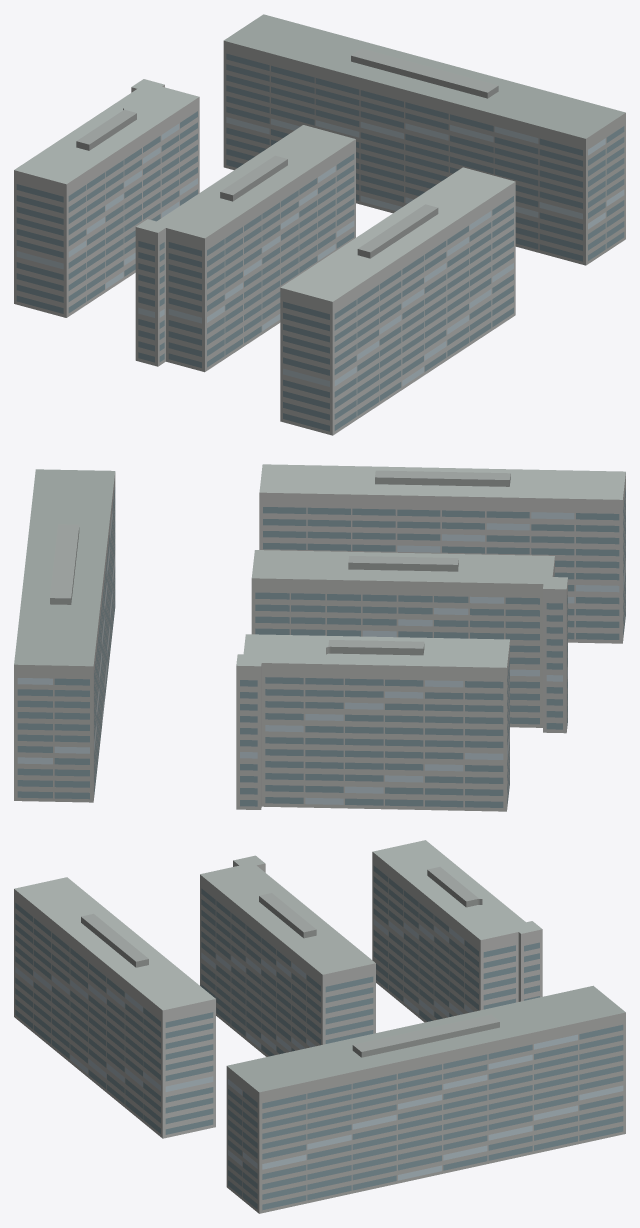
Rendered from apt-a13782601.glb.
3 views of the same model, one above another, from view 1: azimuth 30°, elevation 25°; view 2: azimuth 150°, elevation 25°; view 3: azimuth 270°, elevation 25° (orthographic). The views are drawn at different scales.
Parts seen in each view (by area): view 1: apt-a13782601; view 2: apt-a13782601; view 3: apt-a13782601.
Part boxes in pixels (box(x1,y1,x2,y2)): apt-a13782601: box(14, 14, 625, 435); apt-a13782601: box(14, 464, 625, 811); apt-a13782601: box(14, 840, 625, 1213).
Size of the model in its own units: 149 by 38 by 157.
